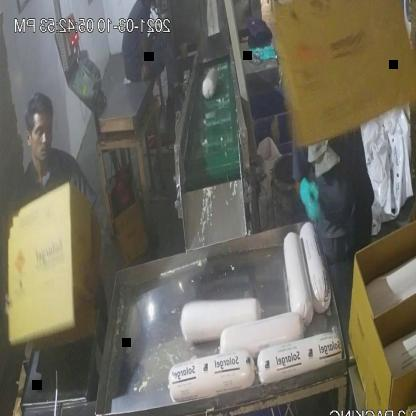glove: (295, 167, 322, 235)
no_glove: (79, 194, 114, 318)
